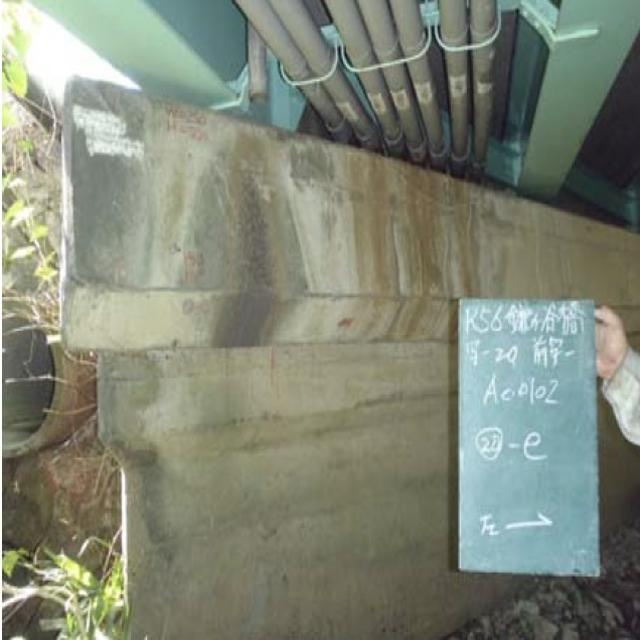leakage: (352, 134, 482, 364)
